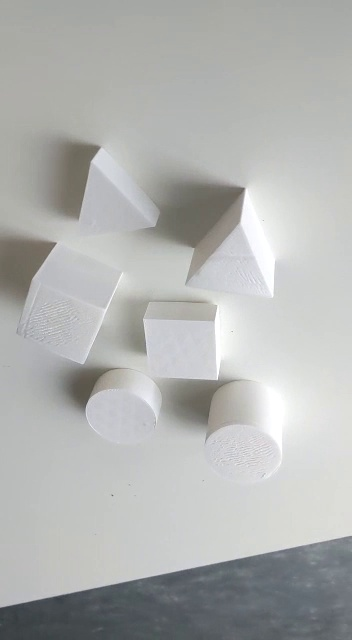Clyinder_short: (84, 365, 161, 448)
Cube: (17, 238, 117, 371)
Cube_short: (140, 298, 221, 385)
Cylinder: (204, 377, 286, 490)
Triangle: (182, 188, 279, 300)
Triangle_short: (63, 142, 162, 246)
